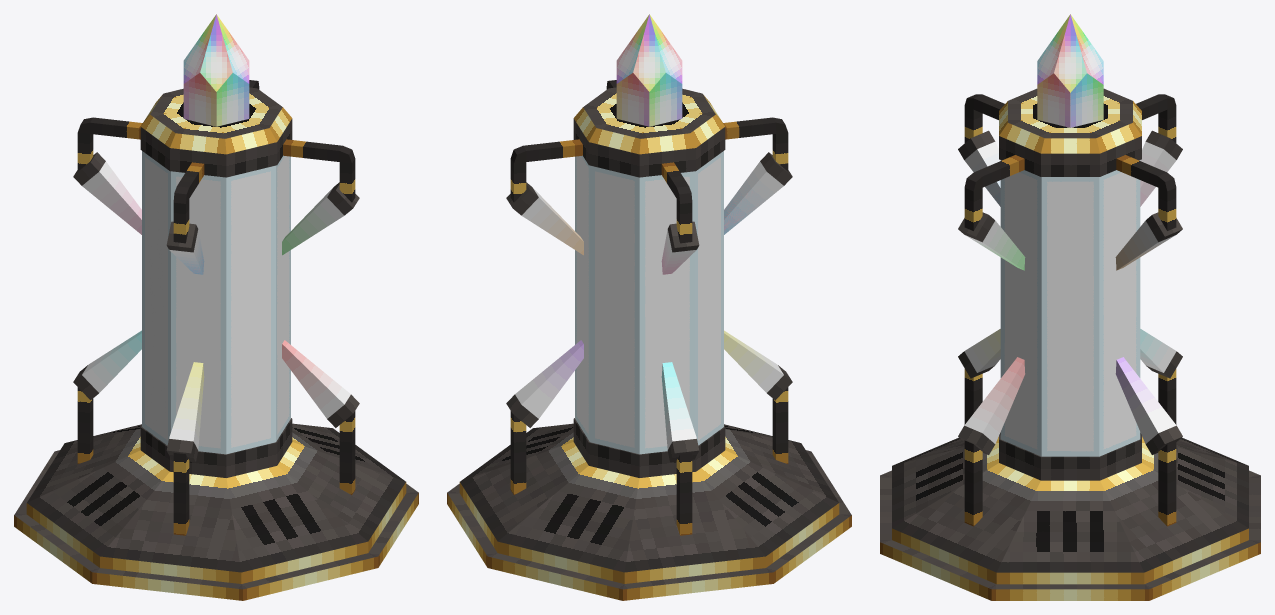
File: echoing_reverberation_chamber.obj
The picture shows the model from 3 angles, left to right: view 1: azimuth 30°, elevation 25°; view 2: azimuth 150°, elevation 25°; view 3: azimuth 270°, elevation 25°; orthographic projection.
Visible parts, largest first — view 1: DeviceBase_Cylinder.002, GlassCage_Cylinder.005, SpikesLower_Cube.013, SpikesUpper_Cube.010, DeviceCap_Cylinder.001, CrystalUpper_Cylinder.004, SpikesUpper.001_Cube.003; view 2: DeviceBase_Cylinder.002, GlassCage_Cylinder.005, SpikesLower_Cube.013, SpikesUpper_Cube.010, DeviceCap_Cylinder.001, CrystalUpper_Cylinder.004, SpikesUpper.001_Cube.003; view 3: DeviceBase_Cylinder.002, GlassCage_Cylinder.005, SpikesLower_Cube.013, SpikesUpper_Cube.010, DeviceCap_Cylinder.001, CrystalUpper_Cylinder.004, SpikesUpper.001_Cube.003.
Part boxes in pixels (x1,y1,x2,y2): DeviceBase_Cylinder.002: (14, 418, 418, 600); GlassCage_Cylinder.005: (142, 151, 290, 454); SpikesLower_Cube.013: (73, 330, 359, 535); SpikesUpper_Cube.010: (73, 80, 359, 274); DeviceCap_Cylinder.001: (140, 87, 292, 177); CrystalUpper_Cylinder.004: (183, 14, 249, 126); SpikesUpper.001_Cube.003: (167, 163, 204, 273); DeviceBase_Cylinder.002: (447, 418, 851, 600); GlassCage_Cylinder.005: (575, 151, 723, 454); SpikesLower_Cube.013: (506, 330, 792, 535); SpikesUpper_Cube.010: (506, 80, 792, 274); DeviceCap_Cylinder.001: (573, 87, 725, 177); CrystalUpper_Cylinder.004: (616, 14, 682, 126); SpikesUpper.001_Cube.003: (724, 118, 790, 230); DeviceBase_Cylinder.002: (880, 432, 1260, 600); GlassCage_Cylinder.005: (1000, 160, 1140, 456); SpikesLower_Cube.013: (958, 329, 1182, 526); SpikesUpper_Cube.010: (958, 94, 1182, 270); DeviceCap_Cylinder.001: (999, 88, 1141, 176); CrystalUpper_Cylinder.004: (1037, 14, 1103, 127); SpikesUpper.001_Cube.003: (959, 94, 1004, 206).
Size of the model in its own units: 1.85 by 2.71 by 1.85.
